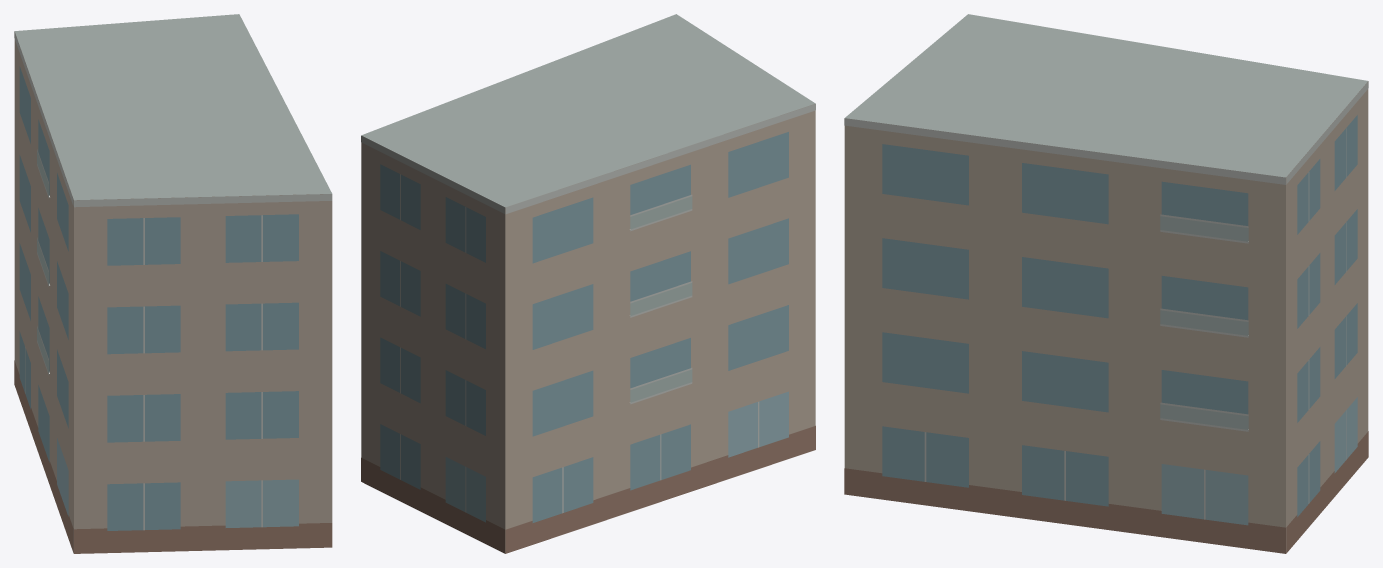
The model's file is survey-upis-33040325.glb.
3 views of the same model, side by side, from view 1: azimuth 30°, elevation 25°; view 2: azimuth 150°, elevation 25°; view 3: azimuth 270°, elevation 25° (orthographic). The views are drawn at different scales.
Parts seen in each view (by area): view 1: survey-upis-33040325.tmp; view 2: survey-upis-33040325.tmp; view 3: survey-upis-33040325.tmp.
Part boxes in pixels (x1,y1,x2,y2): survey-upis-33040325.tmp: [14, 14, 332, 553]; survey-upis-33040325.tmp: [361, 14, 815, 553]; survey-upis-33040325.tmp: [844, 14, 1368, 553].
Bounding box in the file's own units: 11.47 × 12.3 × 15.53.
